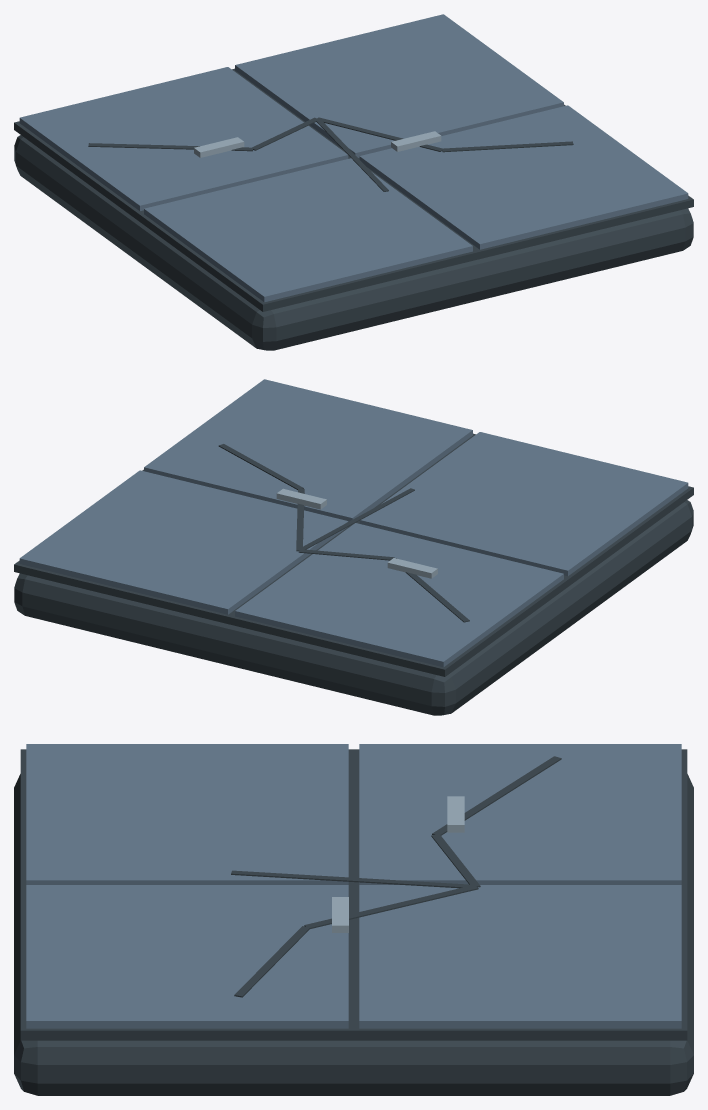
File: archive_floor_variant.glb
3 views of the same model, one above another, from view 1: azimuth 30°, elevation 25°; view 2: azimuth 150°, elevation 25°; view 3: azimuth 270°, elevation 25° (orthographic). The views are drawn at different scales.
Visible parts, largest first — view 1: archive_floor_skin; view 2: archive_floor_skin; view 3: archive_floor_skin.
Boxes of the visible parts, x1=… form: archive_floor_skin: x1=14, y1=14, x2=693, y2=350; archive_floor_skin: x1=14, y1=379, x2=693, y2=715; archive_floor_skin: x1=14, y1=744, x2=693, y2=1095.
Size of the model in its own units: 2 by 0.284 by 2.
